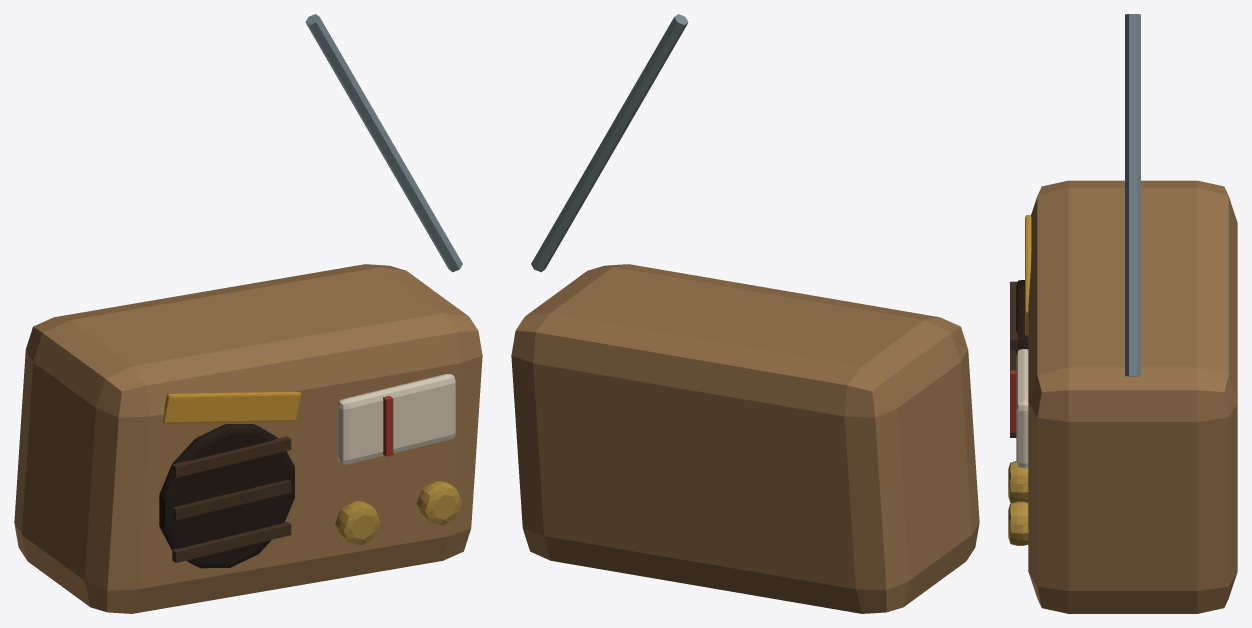
File: device_broken_radio.glb
3 renders of one model, left to right at view 1: azimuth 30°, elevation 25°; view 2: azimuth 150°, elevation 25°; view 3: azimuth 270°, elevation 25°, orthographic. The views are drawn at different scales.
Parts seen in each view (by area): view 1: BrokenRadio_Mesh; view 2: BrokenRadio_Mesh; view 3: BrokenRadio_Mesh.
Boxes of the visible parts, x1,y1,x2,y2 form: BrokenRadio_Mesh: (14, 14, 482, 613); BrokenRadio_Mesh: (511, 14, 979, 613); BrokenRadio_Mesh: (1008, 14, 1237, 613).
Size of the model in its own units: 0.601 by 0.7584 by 0.285.
